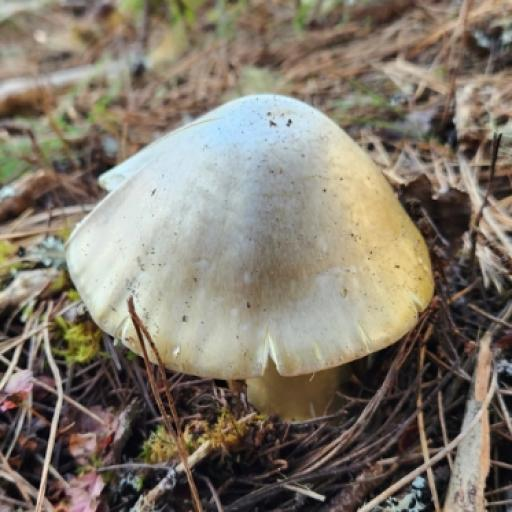Death Cap: (36, 42, 475, 480)
